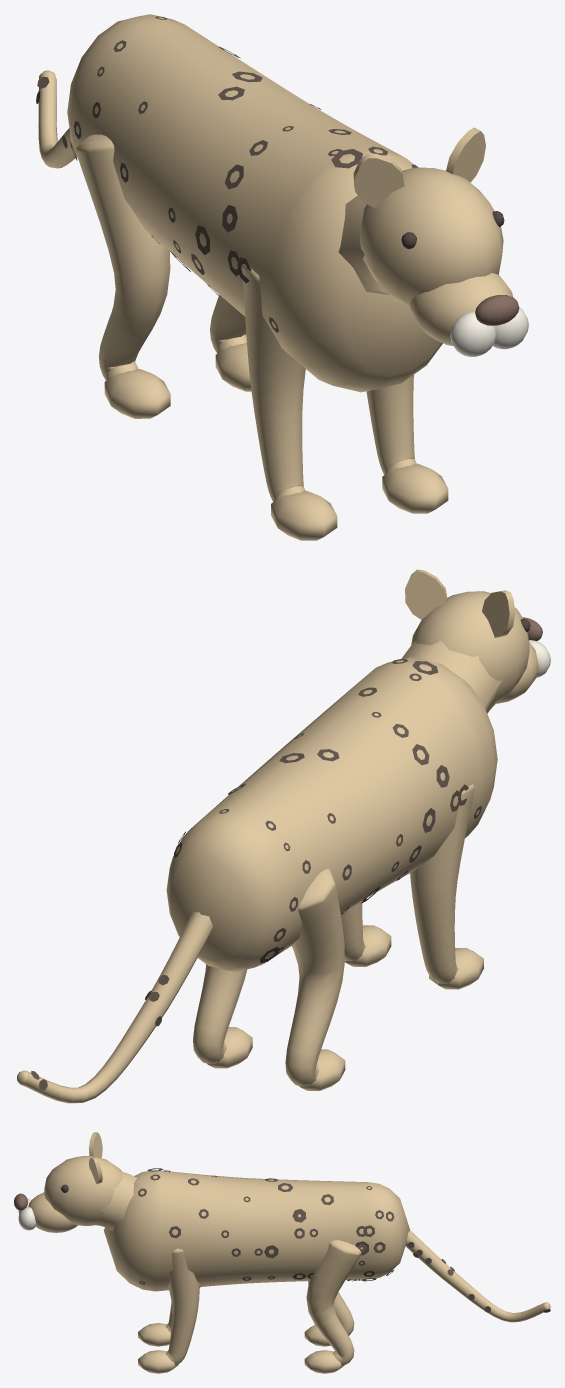
Rendered from leopard.glb.
3 renders of one model, top to bottom at view 1: azimuth 30°, elevation 25°; view 2: azimuth 150°, elevation 25°; view 3: azimuth 270°, elevation 25°, orthographic. The views are drawn at different scales.
Visible parts, largest first — view 1: leopard; view 2: leopard; view 3: leopard.
Boxes of the visible parts, x1,y1,x2,y2 form: leopard: (36,14,528,540); leopard: (17,569,550,1103); leopard: (14,1132,550,1373).
Size of the model in its own units: 0.6015 by 1.34 by 3.06.
